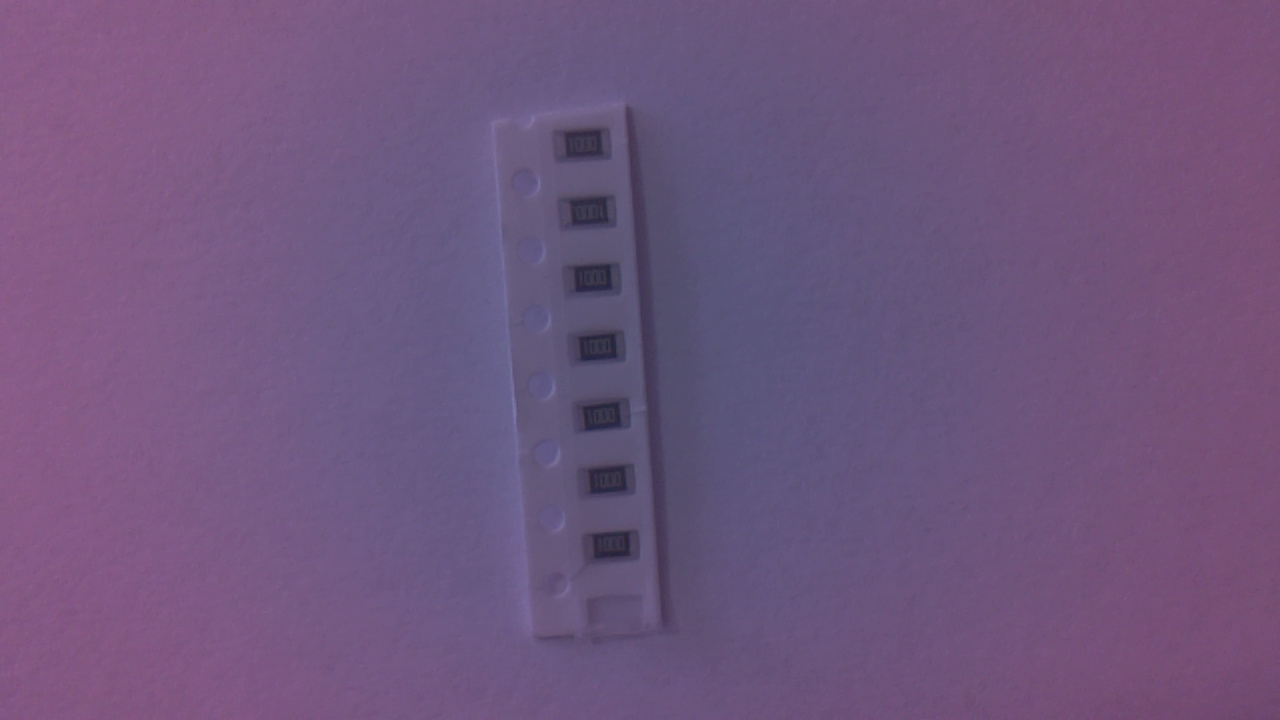Resistor: (563, 201, 624, 240), (581, 468, 642, 506), (566, 267, 629, 300), (557, 130, 619, 163), (578, 403, 636, 438), (588, 533, 644, 569), (575, 333, 633, 367)
